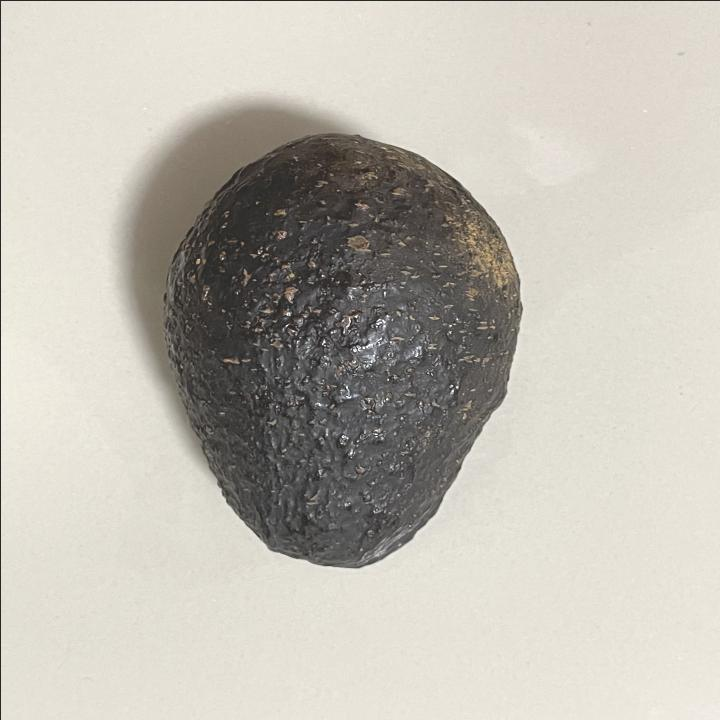Level3: (153, 123, 534, 577)
